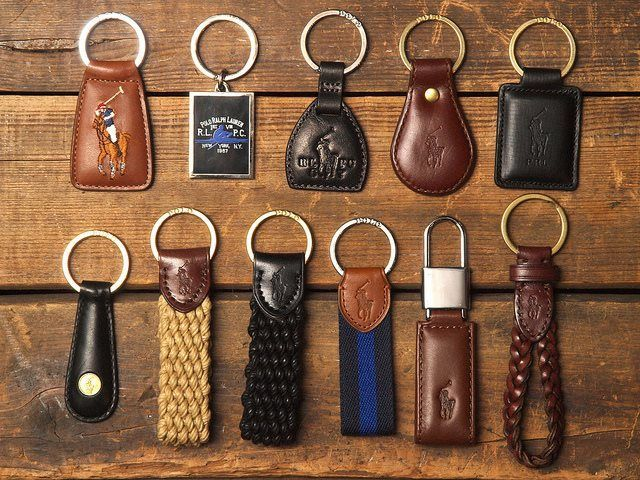cuero: (64, 59, 583, 468)
